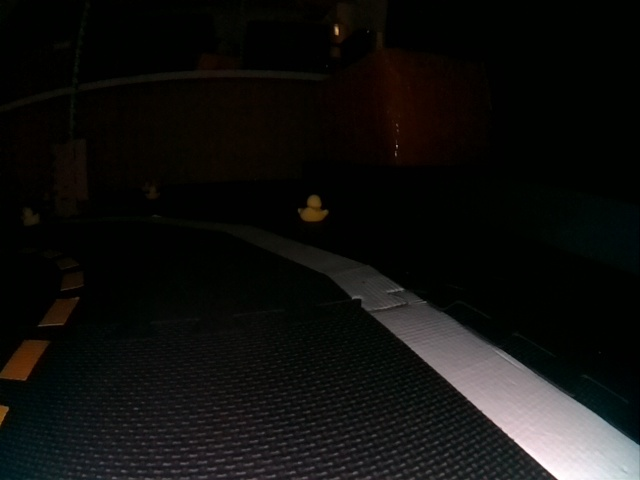Duckie: (297, 196, 329, 222), (22, 208, 40, 225), (147, 187, 157, 198)
